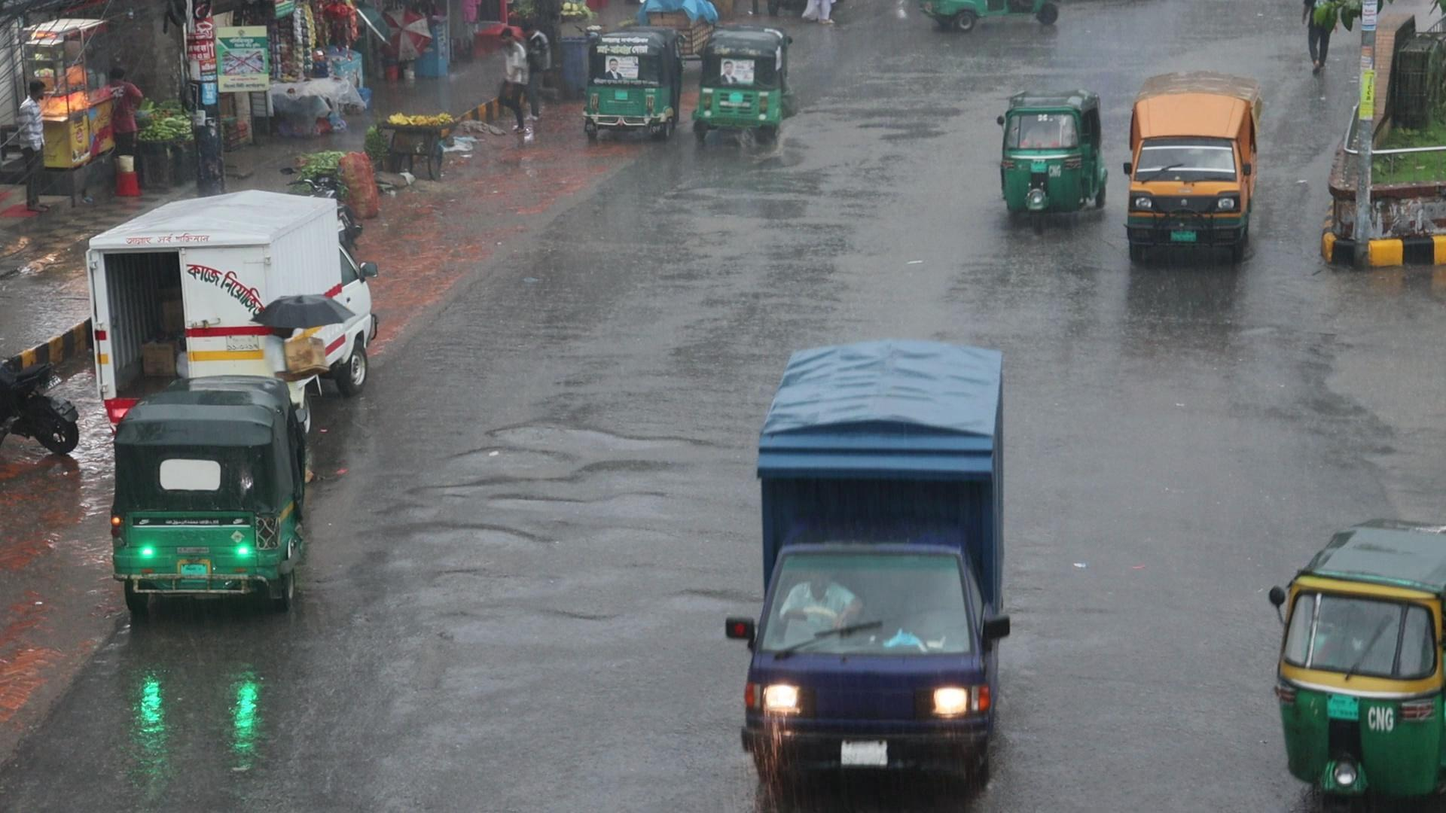Truck: (723, 338, 1008, 808), (1123, 68, 1264, 263)
